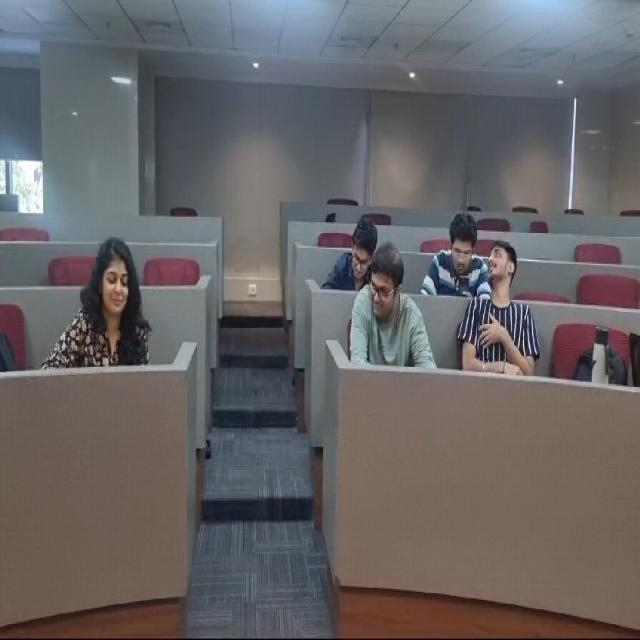cheating: (422, 217, 496, 294), (366, 249, 427, 332), (479, 242, 528, 313)
non-cheating: (72, 235, 147, 333), (333, 208, 400, 302)
